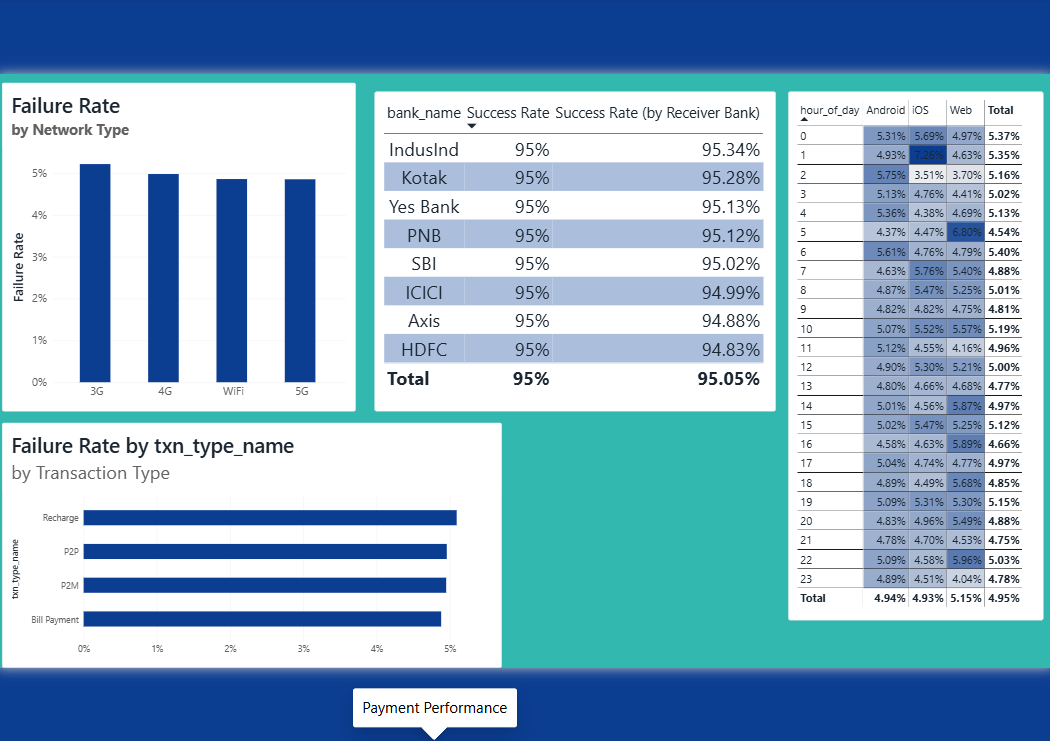

The dashboard page shown, as its layout file describes it:
{"tool":"powerbi","page":{"name":"Payment Performance","canvas":[1920,1080],"ordinal":1},"visuals":[{"type":"pivotTable","fields":{"Rows":["fact_transactions.hour_of_day"],"Columns":["dim_device.device_type"],"Values":["_Measures.Failure Rate"]},"box":[1438.6,31.8,463.6,961.4],"z":0},{"type":"clusteredBarChart","fields":{"Y":["_Measures.Failure Rate"],"Category":["dim_transaction_type.txn_type_name"]},"box":[9.1,634.1,909.1,445.5],"z":1000},{"type":"clusteredColumnChart","title":"Failure Rate","fields":{"Category":["dim_network.network_type"],"Y":["_Measures.Failure Rate"]},"box":[9.1,15.9,643.2,597.7],"z":2000},{"type":"tableEx","fields":{"Values":["dim_bank.bank_name","_Measures.Success Rate","_Measures.Success Rate (by Receiver Bank)"]},"box":[686.4,31.8,729.5,581.8],"z":3000}]}

Visuals, with their boxes on the page's 1920x1080 design canvas (x1, y1, x2, y2). These are canvas units, not pixel positions in the 1050x741 screenshot, which may show the page scaled, cropped or inside an application window:
pivotTable - fact_transactions.hour_of_day x dim_device.device_type: bbox=[1439, 32, 1902, 993]
clusteredBarChart - _Measures.Failure Rate x dim_transaction_type.txn_type_name: bbox=[9, 634, 918, 1080]
"Failure Rate" clusteredColumnChart: bbox=[9, 16, 652, 614]
tableEx - dim_bank.bank_name x _Measures.Success Rate: bbox=[686, 32, 1416, 614]
